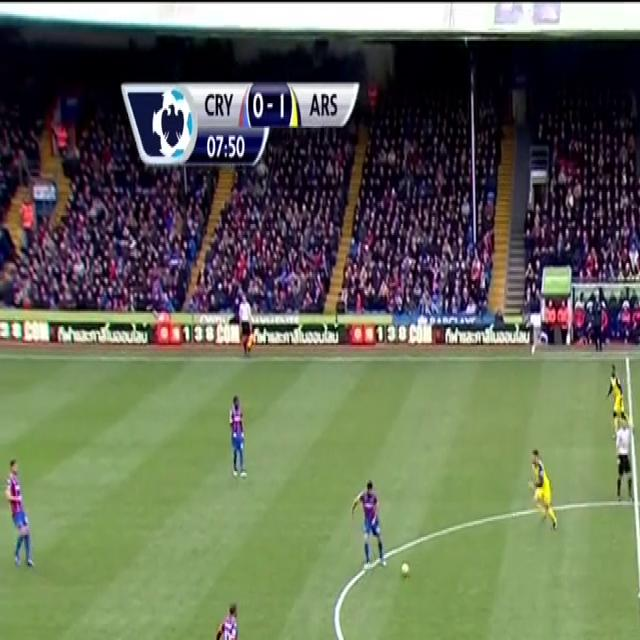ball: (396, 558, 419, 584)
referee: (607, 418, 640, 508), (238, 291, 257, 360)
soccer-player: (0, 448, 46, 572), (346, 474, 396, 581), (525, 439, 568, 537), (218, 388, 256, 484), (209, 601, 267, 640)
